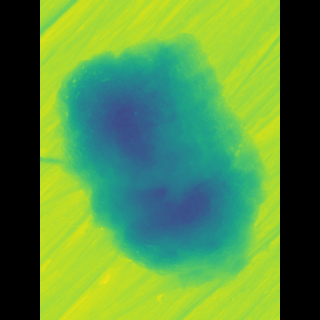Loch: (79, 34, 241, 303)
